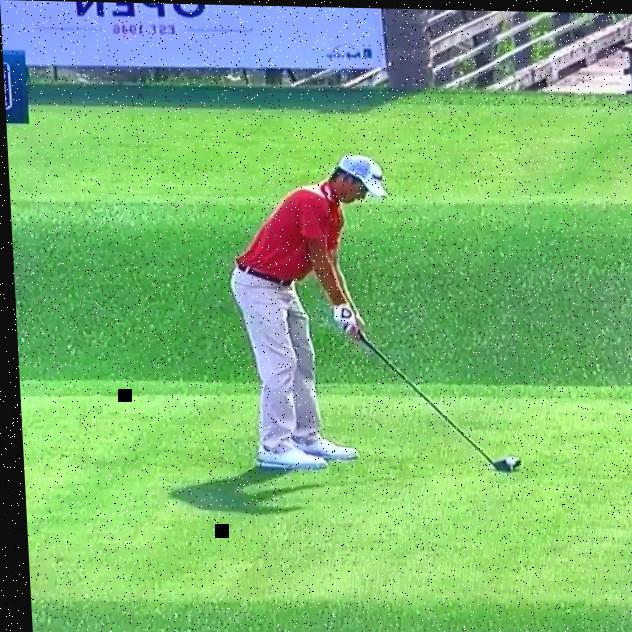ClubHead: (489, 455, 517, 471)
GolfBall: (501, 455, 513, 463)
